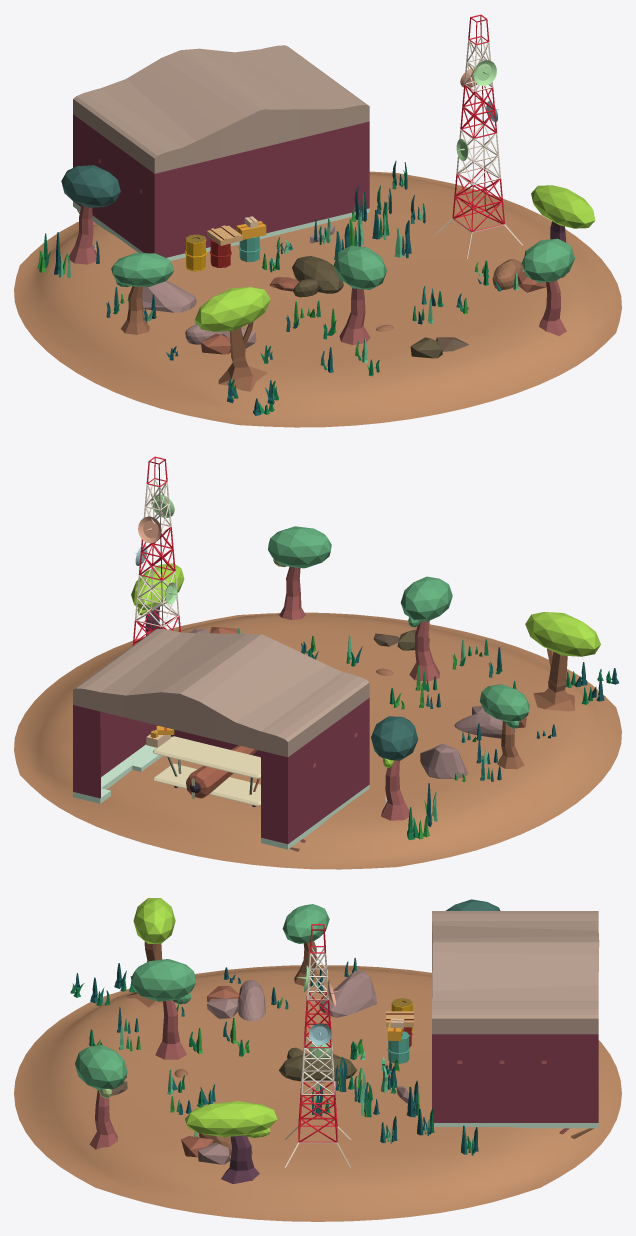
Rendered from hangar_island.glb.
3 views of the same model, one above another, from view 1: azimuth 30°, elevation 25°; view 2: azimuth 150°, elevation 25°; view 3: azimuth 270°, elevation 25° (orthographic). The views are drawn at different scales.
Parts seen in each view (by area): view 1: ground.001, hangar, radio_tower, tree.005, tree.002, tree.001, tree, tree.003, tree.004, rock.009, Icosphere.002, hangar_support (+2 smaller); view 2: ground.001, hangar, avion, tree.005, radio_tower, tree, tree.001, tree.002, tree.003, hangar_support, tree.004, rock.009 (+1 smaller); view 3: ground.001, hangar, tree.004, radio_tower, tree.001, tree, tree.005, tree.003, rock.009, Icosphere.002, rock.003, hangar_support (+4 smaller).
Part boxes in pixels (box(x1,y1,x2,y2)): ground.001: box(14, 171, 621, 427); hangar: box(73, 45, 369, 257); radio_tower: box(434, 14, 522, 258); tree.005: box(195, 287, 270, 391); tree.002: box(61, 165, 120, 264); tree.001: box(333, 245, 386, 344); tree: box(521, 238, 575, 336); tree.003: box(111, 252, 173, 334); tree.004: box(531, 185, 595, 242); rock.009: box(142, 280, 196, 312); Icosphere.002: box(292, 256, 343, 293); hangar_support: box(73, 201, 369, 260); ground.001: box(14, 612, 621, 869); hangar: box(73, 629, 369, 843); avion: box(153, 736, 260, 806); tree.005: box(525, 612, 600, 711); radio_tower: box(132, 456, 180, 645); tree: box(268, 526, 331, 619); tree.001: box(400, 576, 452, 681); tree.002: box(371, 716, 418, 820); tree.003: box(479, 684, 529, 769); hangar_support: box(73, 737, 369, 849); tree.004: box(131, 563, 184, 635); rock.009: box(420, 743, 468, 778); ground.001: box(14, 965, 621, 1221); hangar: box(432, 911, 599, 1122); tree.004: box(185, 1101, 277, 1183); radio_tower: box(284, 924, 351, 1167); tree.001: box(131, 959, 195, 1059); tree: box(75, 1045, 127, 1149); tree.005: box(125, 898, 175, 1007); tree.003: box(282, 904, 329, 986); rock.009: box(319, 971, 376, 1017); Icosphere.002: box(279, 1053, 356, 1082); rock.003: box(238, 980, 265, 1020); hangar_support: box(434, 1123, 598, 1128).
Bounding box in the file's own units: 28.8 × 12.9 × 28.8.
